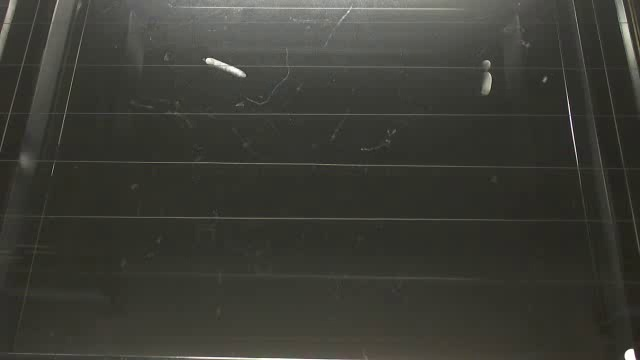Alfa: (203, 52, 248, 80), (478, 56, 492, 94)
